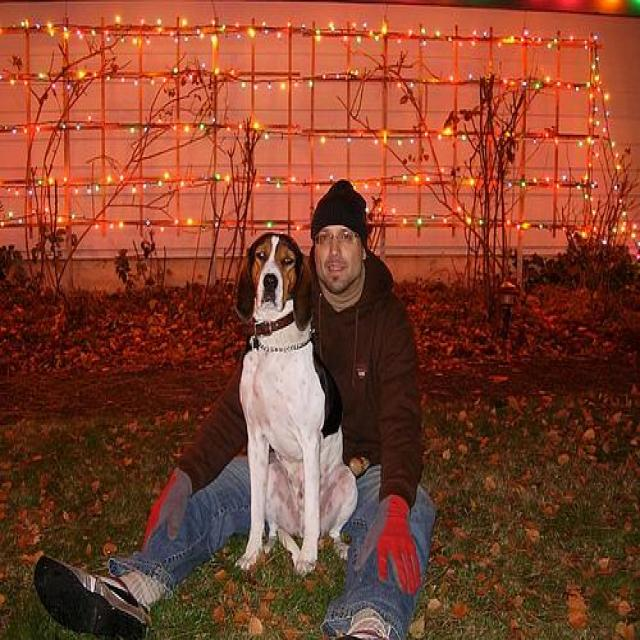sitting: (237, 234, 356, 570)
